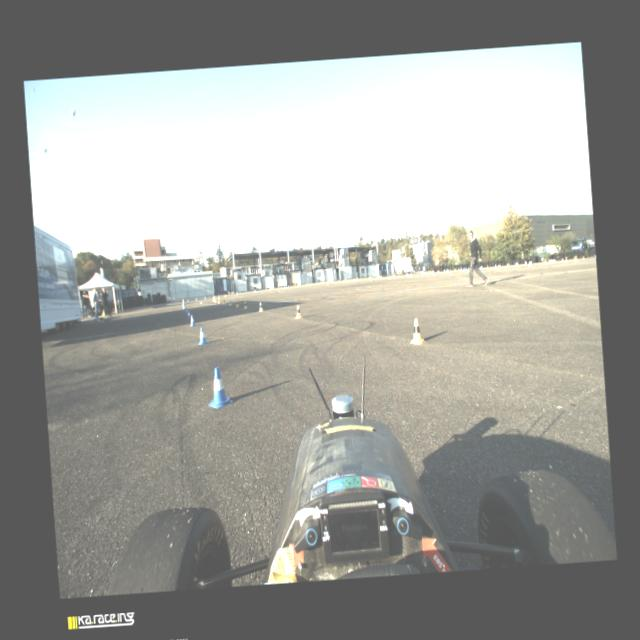blue_cone: (206, 365, 233, 408), (196, 326, 209, 344), (188, 315, 196, 326), (186, 310, 190, 318), (185, 307, 188, 314), (182, 304, 185, 310), (369, 276, 372, 280), (514, 261, 516, 266), (524, 260, 526, 265), (406, 272, 408, 276), (447, 268, 449, 272), (460, 266, 462, 270), (463, 267, 465, 271), (494, 264, 496, 268), (506, 263, 508, 267), (530, 260, 532, 264), (186, 299, 188, 302), (203, 296, 206, 298), (392, 274, 394, 277), (422, 271, 424, 274), (479, 266, 482, 268), (420, 271, 422, 274), (306, 282, 307, 286), (425, 270, 426, 274), (465, 266, 466, 270), (562, 258, 563, 262), (339, 279, 340, 282), (380, 275, 381, 278), (594, 254, 595, 257), (196, 298, 197, 300), (353, 278, 354, 280), (499, 264, 500, 266), (288, 284, 288, 288), (322, 281, 322, 284), (430, 270, 430, 272)
large_orange_cone: (212, 294, 215, 302), (181, 298, 184, 305)
orange_cone: (112, 307, 114, 311)
yellow_cone: (408, 318, 423, 344), (294, 304, 302, 318), (258, 302, 264, 312), (243, 300, 247, 308), (564, 256, 568, 262), (235, 300, 239, 306), (228, 299, 232, 305), (449, 268, 452, 274), (222, 298, 225, 304), (102, 309, 104, 316), (576, 254, 578, 260), (544, 258, 546, 264), (217, 298, 220, 302), (214, 298, 217, 302), (369, 277, 372, 281), (528, 261, 530, 266), (496, 264, 498, 269), (468, 267, 470, 272), (432, 270, 434, 275), (582, 255, 584, 259), (574, 256, 576, 260), (516, 261, 518, 265), (444, 268, 446, 272), (388, 274, 390, 278), (342, 279, 344, 283), (296, 284, 298, 288), (254, 289, 256, 293), (218, 294, 220, 298), (224, 293, 226, 297), (236, 290, 238, 294), (437, 269, 439, 272), (283, 286, 285, 289), (212, 296, 213, 301), (487, 264, 488, 268), (458, 267, 459, 271), (454, 268, 456, 270), (410, 272, 411, 276), (309, 282, 310, 286), (355, 278, 356, 282), (327, 281, 328, 284), (269, 288, 270, 291)
